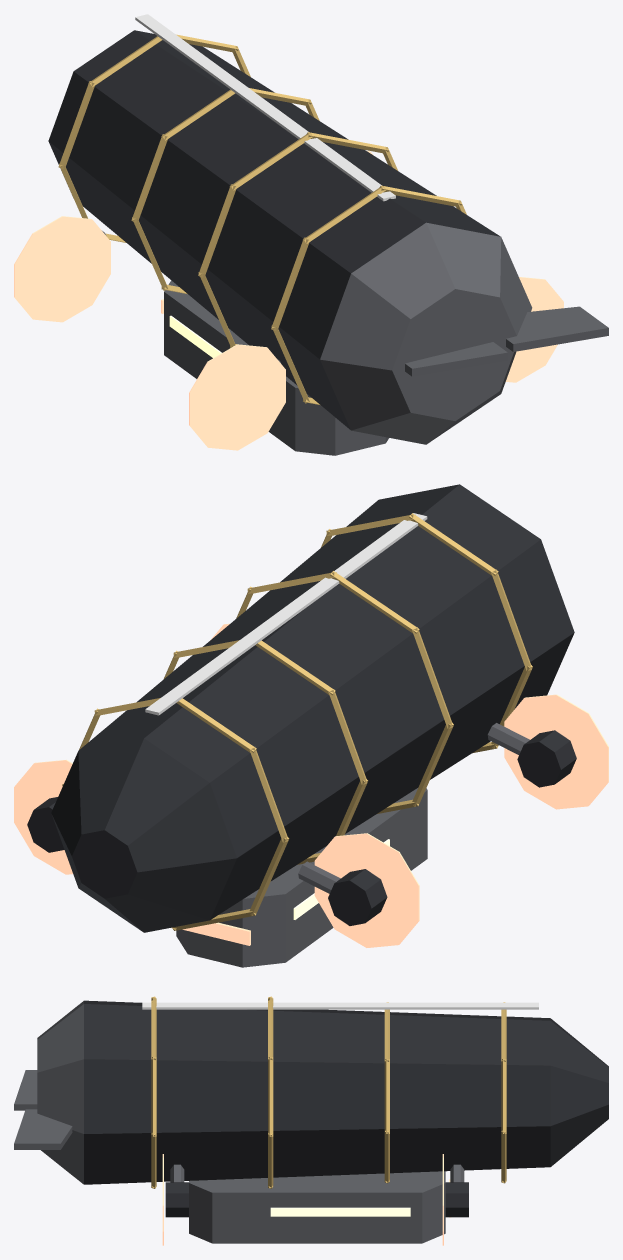
Rendered from Aegis_Carrier.fbx.
The picture shows the model from 3 angles, top to bottom: view 1: azimuth 30°, elevation 25°; view 2: azimuth 150°, elevation 25°; view 3: azimuth 270°, elevation 25°; orthographic projection. The views are drawn at different scales.
Visible parts, largest first — view 1: CAR_Envelope, CAR_EnvTail, CAR_PropDisc-1-1, CAR_PropDisc-11, CAR_Gondola, CAR_RedLine, CAR_TailFin1, CAR_Band1, CAR_Band0, CAR_Band2, CAR_Band3, CAR_PropDisc1-1 (+2 smaller); view 2: CAR_Envelope, CAR_EnvNose, CAR_Gondola, CAR_PropDisc-11, CAR_PropDisc-1-1, CAR_RedLine, CAR_Band3, CAR_Band1, CAR_PropDisc11, CAR_Band0, CAR_Band2, CAR_PropHub-1-1 (+5 smaller); view 3: CAR_Envelope, CAR_Gondola, CAR_EnvNose, CAR_EnvTail, CAR_RedLine, CAR_TailFin1, CAR_GondolaWin1, CAR_Band0, CAR_Band1, CAR_Band3, CAR_Band2, CAR_PropHub1-1 (+2 smaller).
Part boxes in pixels (x1=…): CAR_Envelope: x1=48, y1=30, x2=500, y2=429; CAR_EnvTail: x1=320, y1=222, x2=532, y2=444; CAR_PropDisc-1-1: x1=189, y1=344, x2=285, y2=450; CAR_PropDisc-11: x1=14, y1=216, x2=110, y2=322; CAR_Gondola: x1=164, y1=280, x2=388, y2=455; CAR_RedLine: x1=135, y1=14, x2=395, y2=201; CAR_TailFin1: x1=506, y1=306, x2=608, y2=351; CAR_Band1: x1=198, y1=132, x2=397, y2=348; CAR_Band0: x1=271, y1=185, x2=466, y2=404; CAR_Band2: x1=131, y1=88, x2=319, y2=294; CAR_Band3: x1=58, y1=34, x2=250, y2=242; CAR_PropDisc1-1: x1=505, y1=277, x2=563, y2=382; CAR_Envelope: x1=79, y1=484, x2=574, y2=919; CAR_EnvNose: x1=51, y1=738, x2=236, y2=932; CAR_Gondola: x1=176, y1=788, x2=427, y2=967; CAR_PropDisc-11: x1=314, y1=833, x2=419, y2=947; CAR_PropDisc-1-1: x1=504, y1=694, x2=608, y2=809; CAR_RedLine: x1=145, y1=513, x2=427, y2=715; CAR_Band3: x1=62, y1=698, x2=289, y2=930; CAR_Band1: x1=236, y1=571, x2=453, y2=813; CAR_PropDisc11: x1=14, y1=759, x2=72, y2=874; CAR_Band0: x1=321, y1=513, x2=532, y2=753; CAR_Band2: x1=163, y1=640, x2=367, y2=864; CAR_PropHub-1-1: x1=517, y1=730, x2=576, y2=787; CAR_Envelope: x1=84, y1=1000, x2=550, y2=1184; CAR_Gondola: x1=189, y1=1171, x2=445, y2=1243; CAR_EnvNose: x1=550, y1=1018, x2=608, y2=1166; CAR_EnvTail: x1=37, y1=1001, x2=83, y2=1184; CAR_RedLine: x1=142, y1=1002, x2=538, y2=1009; CAR_TailFin1: x1=14, y1=1109, x2=72, y2=1149; CAR_GondolaWin1: x1=270, y1=1207, x2=410, y2=1216; CAR_Band0: x1=151, y1=996, x2=156, y2=1188; CAR_Band1: x1=268, y1=996, x2=273, y2=1188; CAR_Band3: x1=501, y1=1002, x2=506, y2=1183; CAR_Band2: x1=384, y1=1002, x2=389, y2=1183; CAR_PropHub1-1: x1=165, y1=1182, x2=188, y2=1217.
Bounding box in the file's own units: 1.48 × 1.07 × 2.55.
